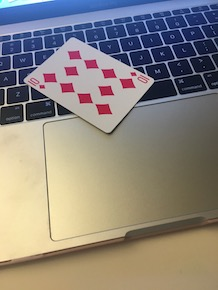TenOfDiamonds: (24, 35, 157, 135)
